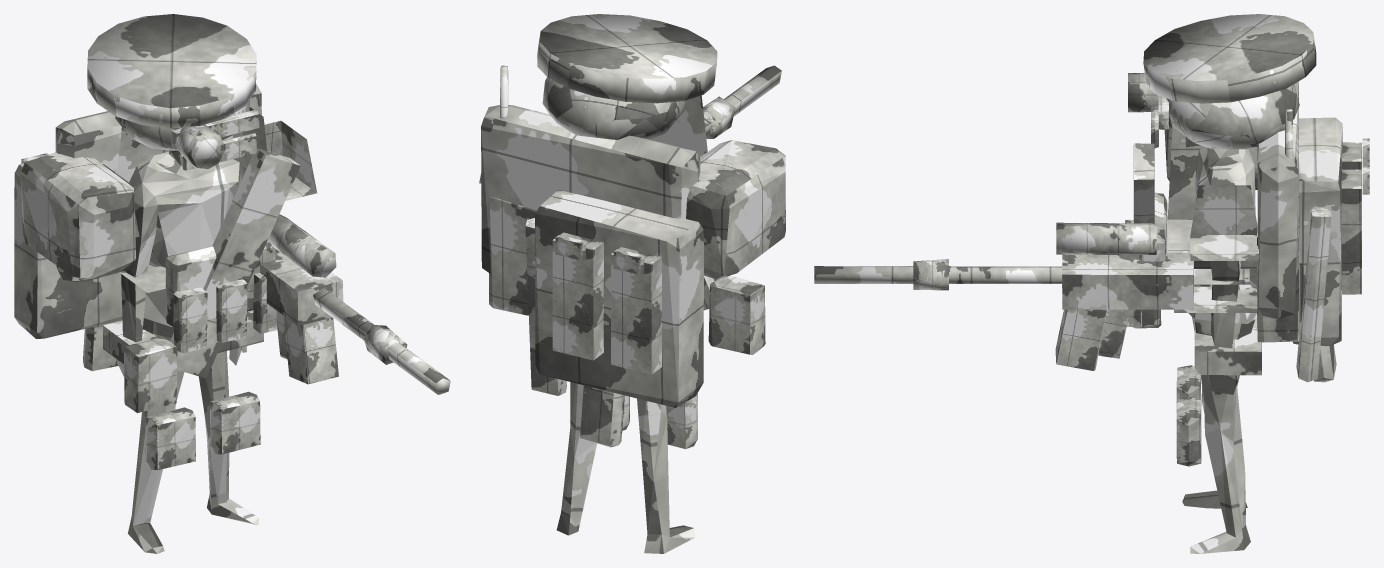
File: commando_lod.glb
The picture shows the model from 3 angles, left to right: view 1: azimuth 30°, elevation 25°; view 2: azimuth 150°, elevation 25°; view 3: azimuth 270°, elevation 25°; orthographic projection. The views are drawn at different scales.
Visible parts, largest first — view 1: commando_lod_team_primary; view 2: commando_lod_team_primary; view 3: commando_lod_team_primary.
Boxes of the visible parts, left/top/right/bottom form: commando_lod_team_primary: left=14, top=14, right=450, bottom=553; commando_lod_team_primary: left=479, top=14, right=785, bottom=553; commando_lod_team_primary: left=814, top=14, right=1369, bottom=553.
Size of the model in its own units: 0.8262 by 1.49 by 1.55.
Materials: 1 (1 with a texture image).
